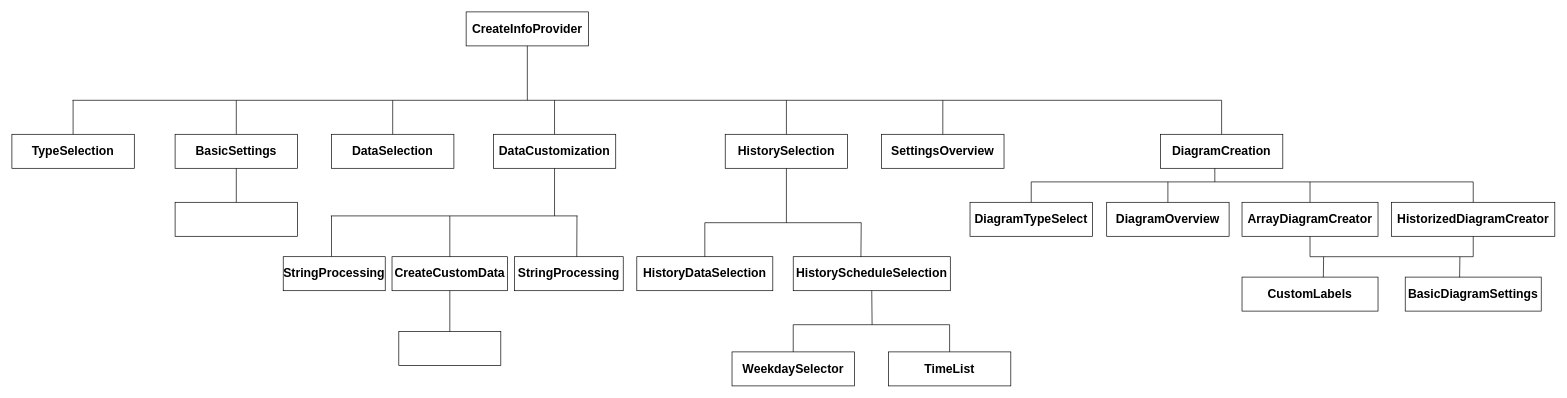
This 1567x398 diagram has some shape labels left out. Here are the shapes that lost their labels. From the top down, the centre of each, then its label:
At pixel 236 219: "APIInputField".
At pixel 449 348: "CustomDataGUI".
